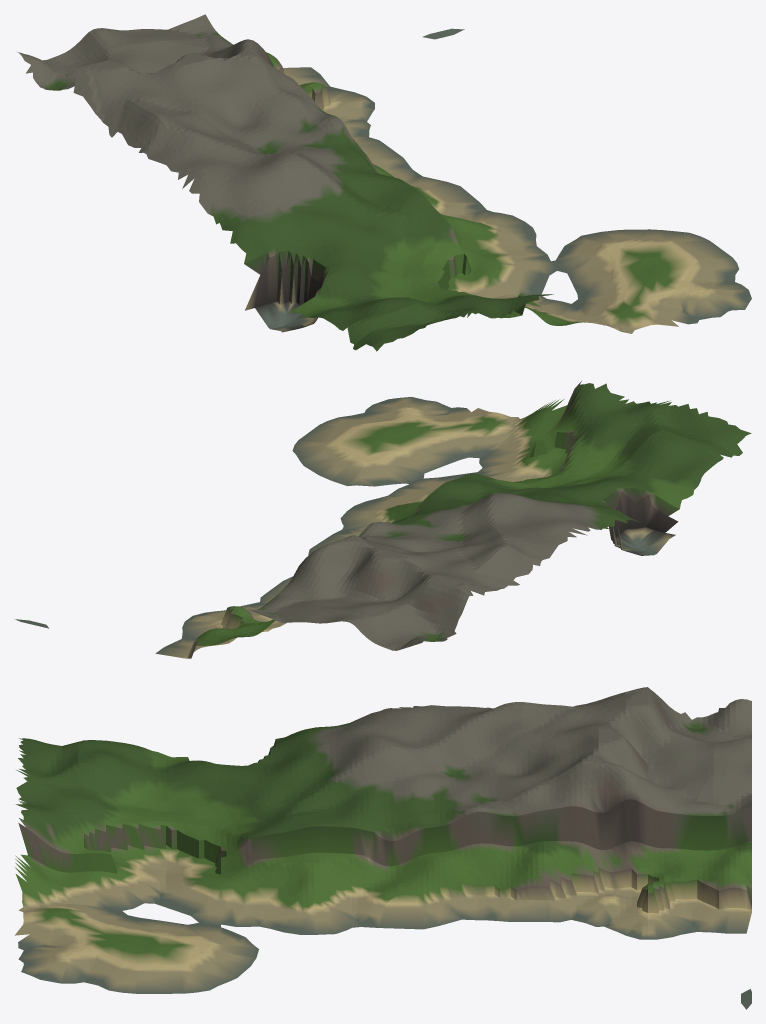
The model's file is coast_tile_x1z0_lod1.glb.
The picture shows the model from 3 angles, top to bottom: view 1: azimuth 30°, elevation 25°; view 2: azimuth 150°, elevation 25°; view 3: azimuth 270°, elevation 25°; orthographic projection. The views are drawn at different scales.
Parts seen in each view (by area): view 1: geometry_0; view 2: geometry_0; view 3: geometry_0.
Part boxes in pixels (<box>): geometry_0: <box>17,14,751,351</box>; geometry_0: <box>14,381,751,658</box>; geometry_0: <box>14,687,751,1009</box>.
Size of the model in its own units: 588 by 134 by 809.
